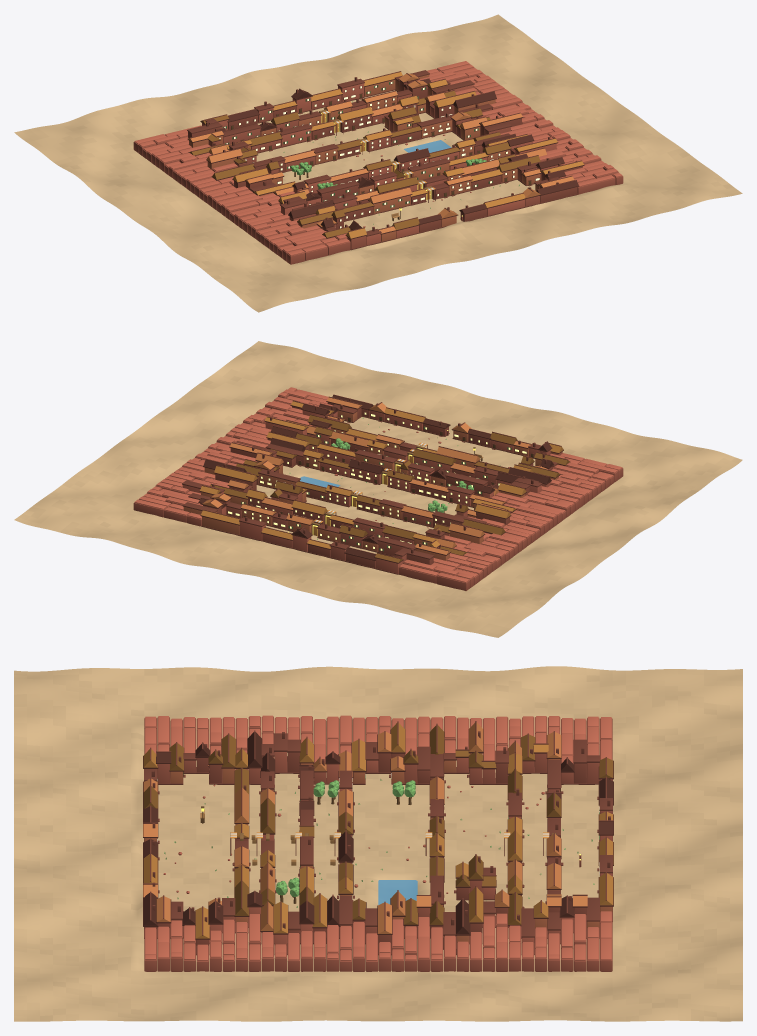
Rendered from town.glb.
3 views of the same model, one above another, from view 1: azimuth 30°, elevation 25°; view 2: azimuth 150°, elevation 25°; view 3: azimuth 270°, elevation 25° (orthographic). The views are drawn at different scales.
Parts seen in each view (by area): view 1: ground, walls, props; view 2: ground, walls, props; view 3: ground, walls, props, trees, water.
Part boxes in pixels (box(x1,y1,x2,y2)): ground: box(14, 14, 742, 312); walls: box(133, 61, 623, 264); props: box(283, 101, 519, 227); ground: box(14, 341, 742, 637); walls: box(133, 387, 623, 590); props: box(288, 417, 509, 539); ground: box(14, 666, 742, 1021); walls: box(143, 715, 613, 971); props: box(163, 779, 594, 907); trees: box(276, 780, 415, 903); water: box(378, 880, 417, 904).
Bounding box in the file's own units: 64 × 3.15 × 56.
